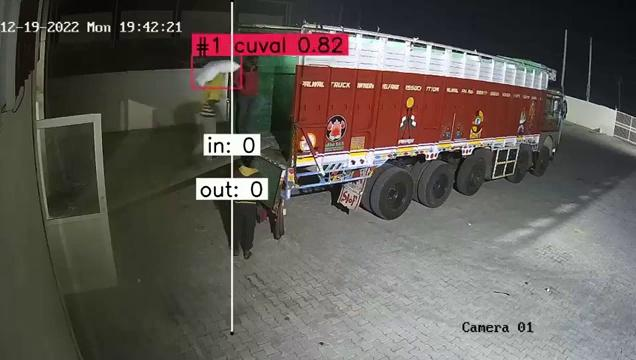karung: (194, 57, 240, 86)
